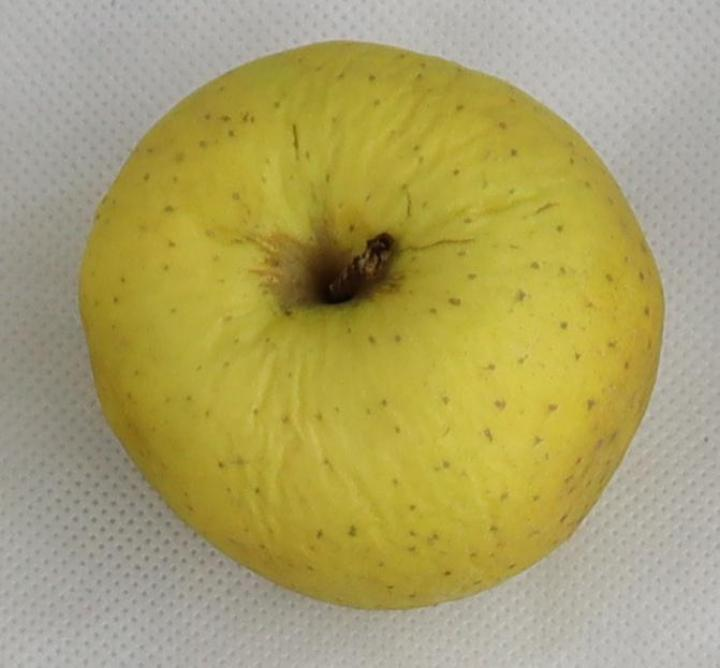apple: (80, 43, 663, 608)
